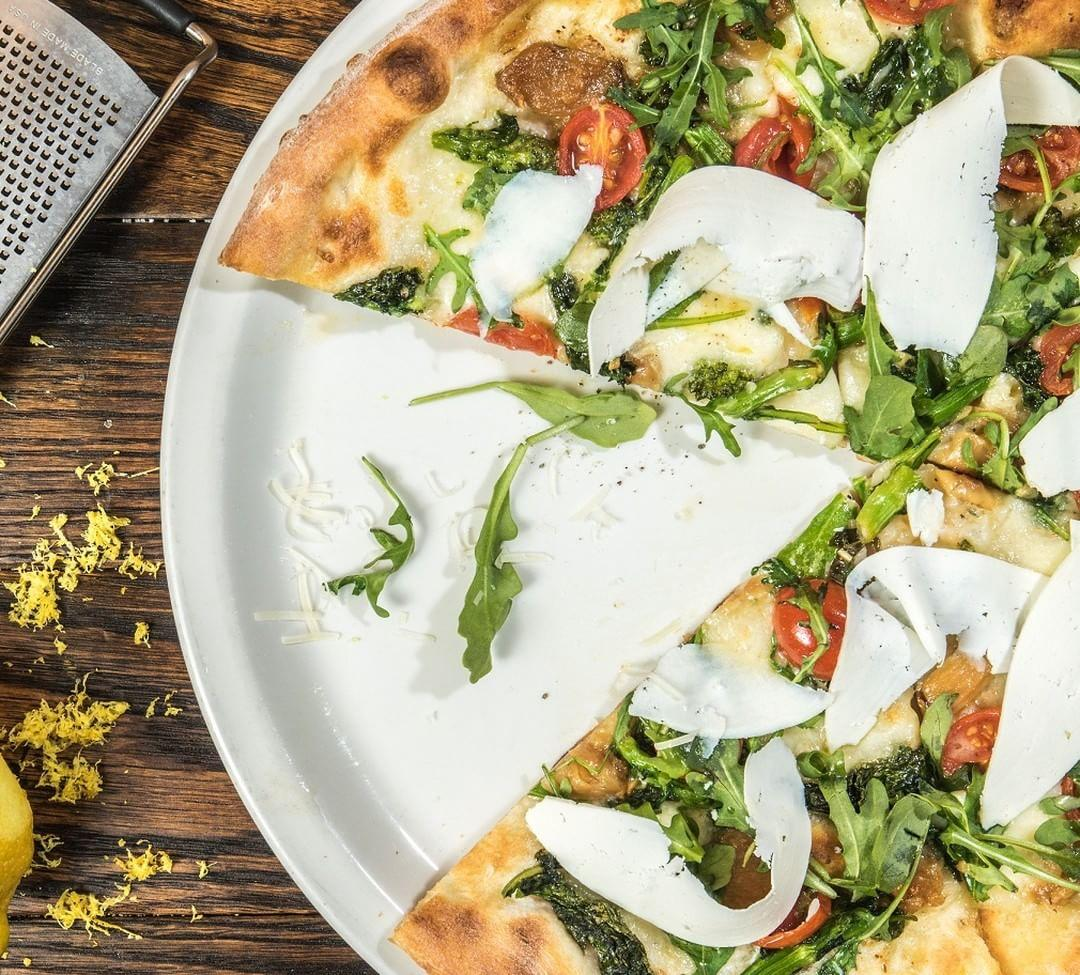Arugula: (843, 771, 965, 923), (653, 0, 725, 157)
Cheese: (873, 82, 1004, 330), (663, 187, 858, 306), (849, 570, 1080, 668), (987, 569, 1080, 804), (484, 180, 583, 309), (647, 654, 814, 727), (553, 814, 673, 915), (731, 752, 812, 895), (591, 232, 663, 337), (827, 666, 903, 748)
Pizza: (217, 0, 1080, 457), (391, 457, 1080, 975)
Tomatoes: (560, 106, 644, 209), (773, 579, 849, 684), (738, 112, 814, 187), (445, 308, 554, 359), (1005, 126, 1080, 189), (752, 897, 834, 950), (1039, 319, 1080, 396), (939, 706, 987, 771)
